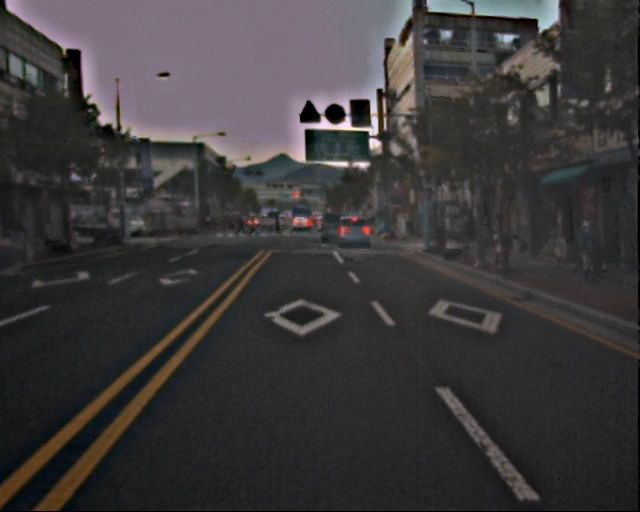person: (570, 215, 606, 290)
